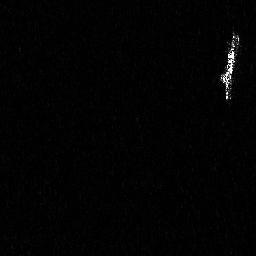ship: (218, 29, 242, 102)
